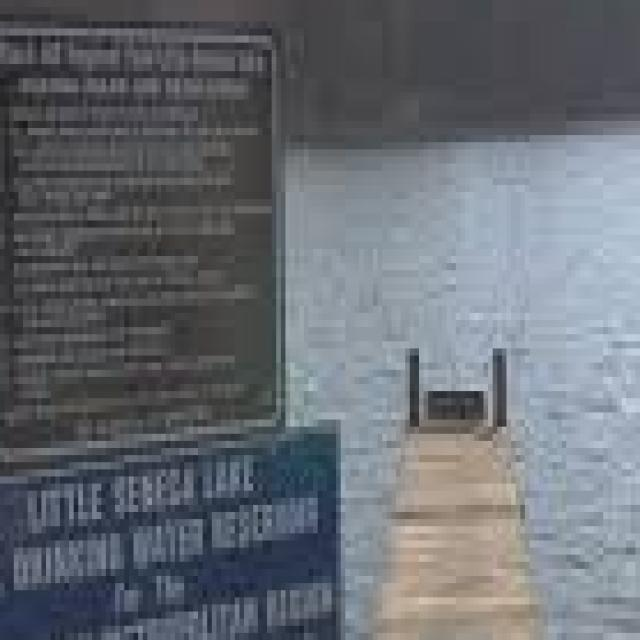-: (529, 213, 640, 640), (330, 182, 610, 296)
